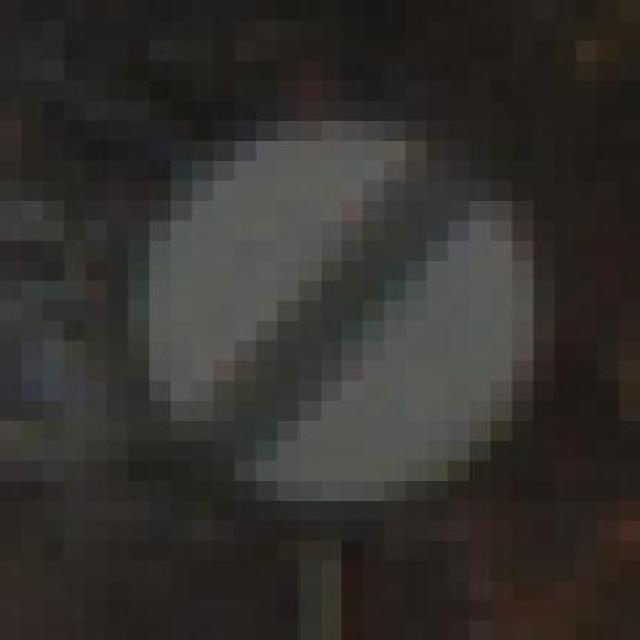End of all speed and passing limits: (85, 60, 533, 500)
